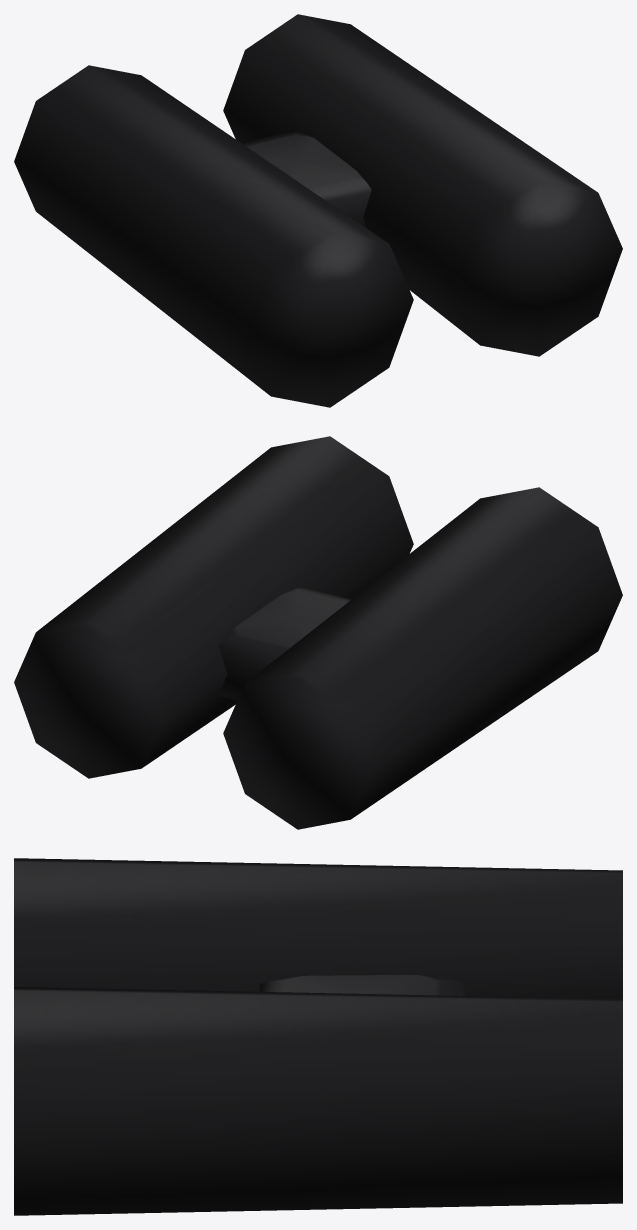
The model's file is jumelles.glb.
3 views of the same model, one above another, from view 1: azimuth 30°, elevation 25°; view 2: azimuth 150°, elevation 25°; view 3: azimuth 270°, elevation 25° (orthographic). The views are drawn at different scales.
Parts seen in each view (by area): view 1: jumelles; view 2: jumelles; view 3: jumelles.
Boxes of the visible parts, x1=… form: jumelles: x1=14, y1=14, x2=622, y2=407; jumelles: x1=14, y1=436, x2=622, y2=829; jumelles: x1=14, y1=858, x2=622, y2=1215.
Size of the model in its own units: 0.126 by 0.056 by 0.14.
Materials: 1 (1 with a texture image).
